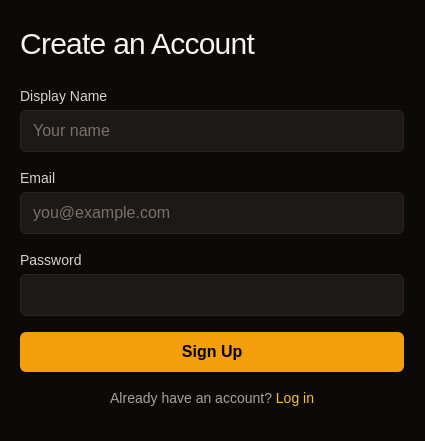
Test case: SignupPage › shows error when password is less than 8 characters
The image size is (425, 441).
Type "test@example.com" into the field labelled "Email" at (212, 213), box 20,192 -> 404,234
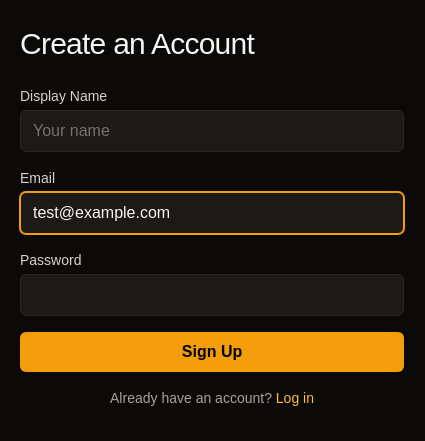
Type "Test User" into the field labelled "Display Name" at (212, 131), box 20,110 -> 404,152
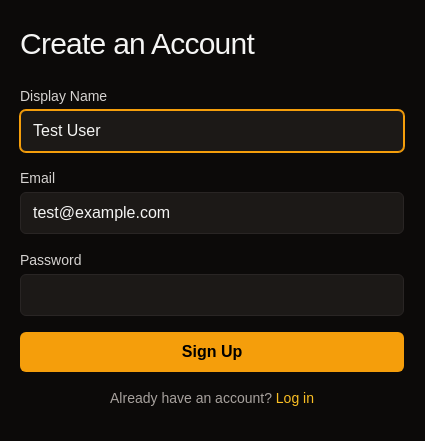
Type "short" into the password field labelled "Password" at (212, 295), box 20,274 -> 404,316
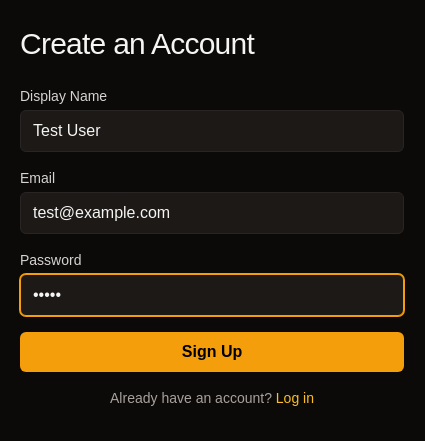
Click the button "Sign Up" at (212, 352), box 20,332 -> 404,372
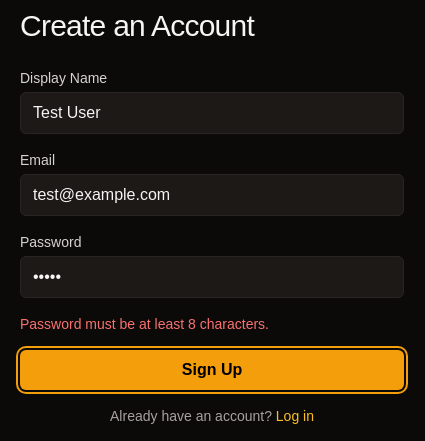
Check: the text "Password must be at least 8 characters." is shown, box 20,316 -> 269,332
